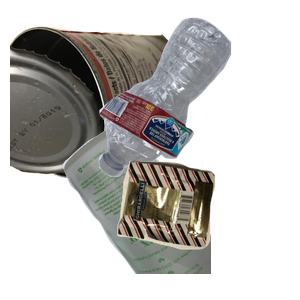glass: (60, 120, 300, 300)
metal: (10, 23, 193, 194)
plastic: (96, 15, 300, 184)
trash: (115, 158, 300, 300)
